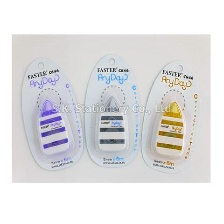book: (17, 54, 85, 172), (138, 58, 203, 174), (80, 51, 142, 170)
correction_fluid: (146, 98, 187, 161), (93, 94, 130, 154), (35, 98, 70, 156)
